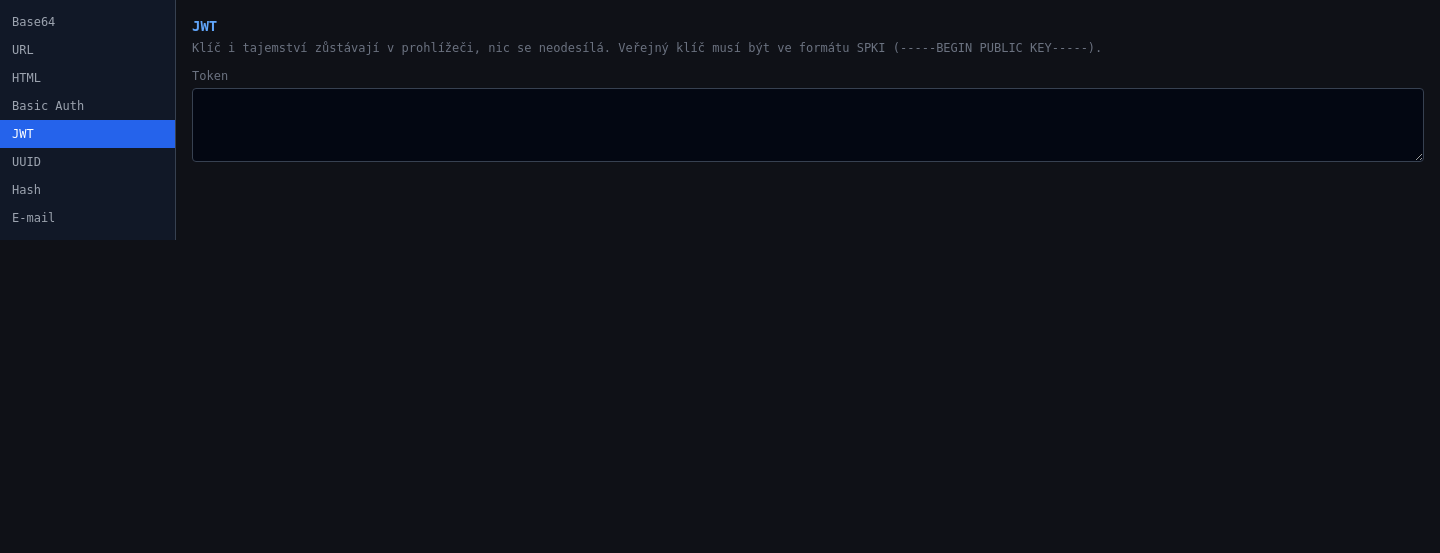
ToolsView › JWT nástroj ověří podpis správným tajemstvím a odmítne špatné
Type "eyJhbGciOiJIUzI1NiIsInR5cCI6IkpXVCJ9.eyJzdWIiOiIxMjM0NTY3ODkwIiwibmFtZSI6IkphbiBOZW1lYyIsImlhdCI6MTUxNjIzOTAyMn0.keAAZPonJ3eodJzQoZTnC42n6QqyLCANJsfjUuqnUJ4" into the text box labelled "Token" at (808, 125), box [192, 88, 1424, 162]
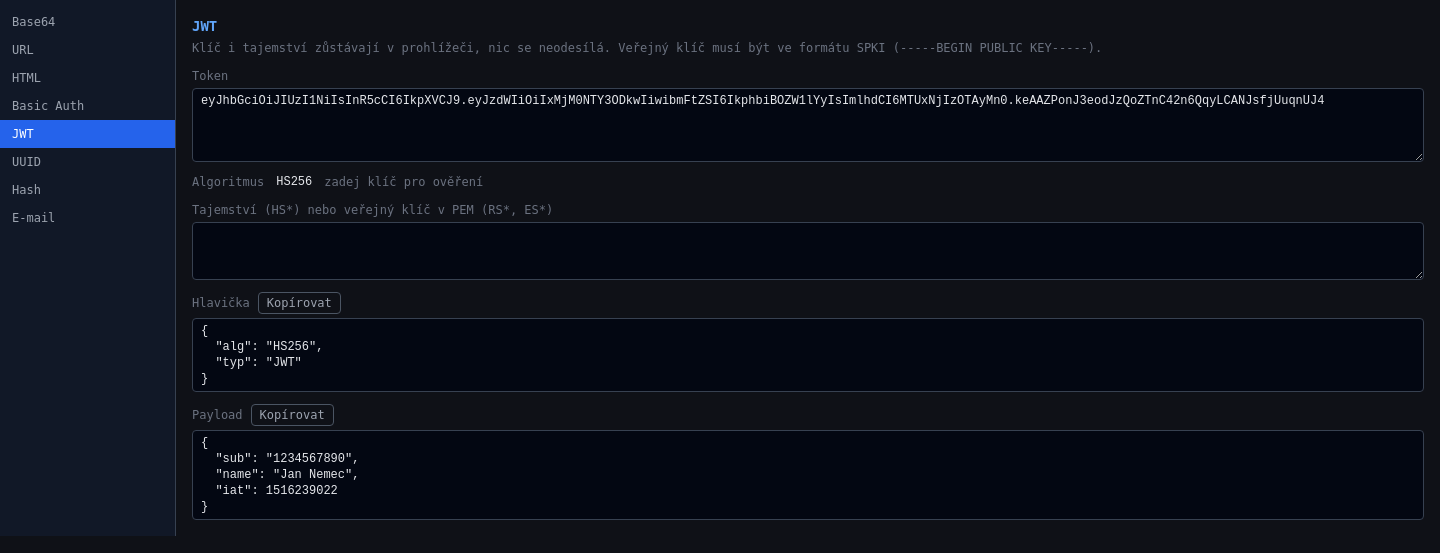
Type "orchestrator-test-secret" into the text box labelled "Tajemství (HS*) nebo veřejný klíč v PEM (RS*, ES*)" at (808, 251), box [192, 222, 1424, 280]
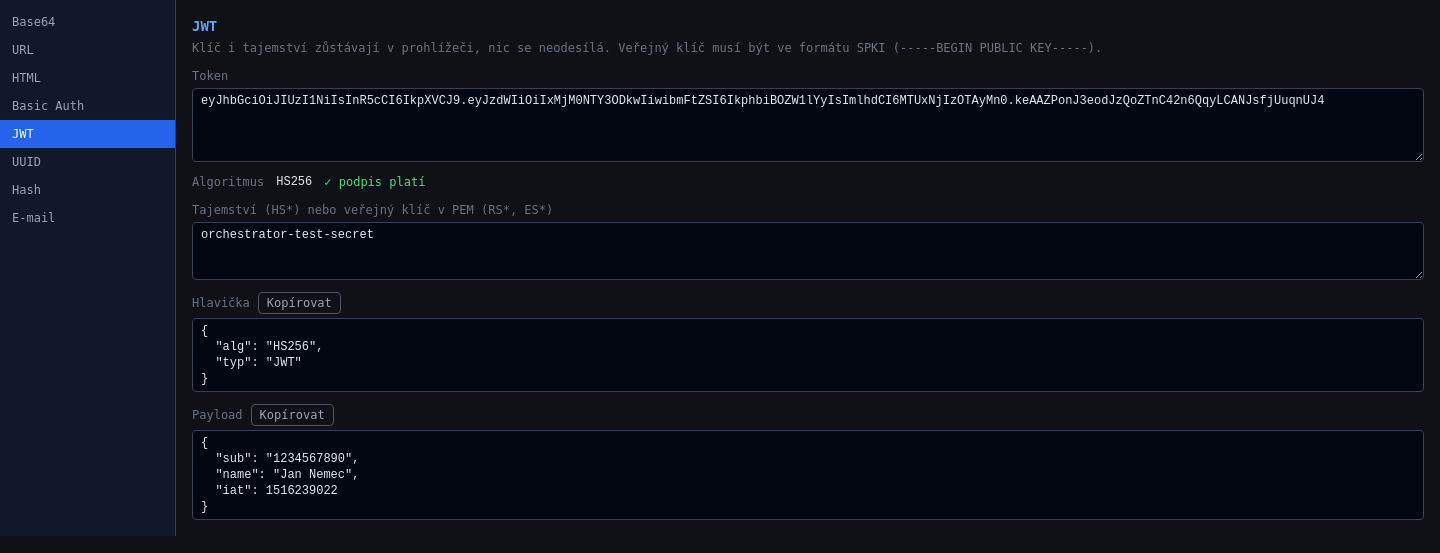
Check: the text "podpis platí" is shown, box [324, 175, 426, 189]
Replace the text in the text box labelled "Tajemství (HS*) nebo veřejný klíč v PEM (RS*, ES*)" with "spatne" at (808, 251), box [192, 222, 1424, 280]
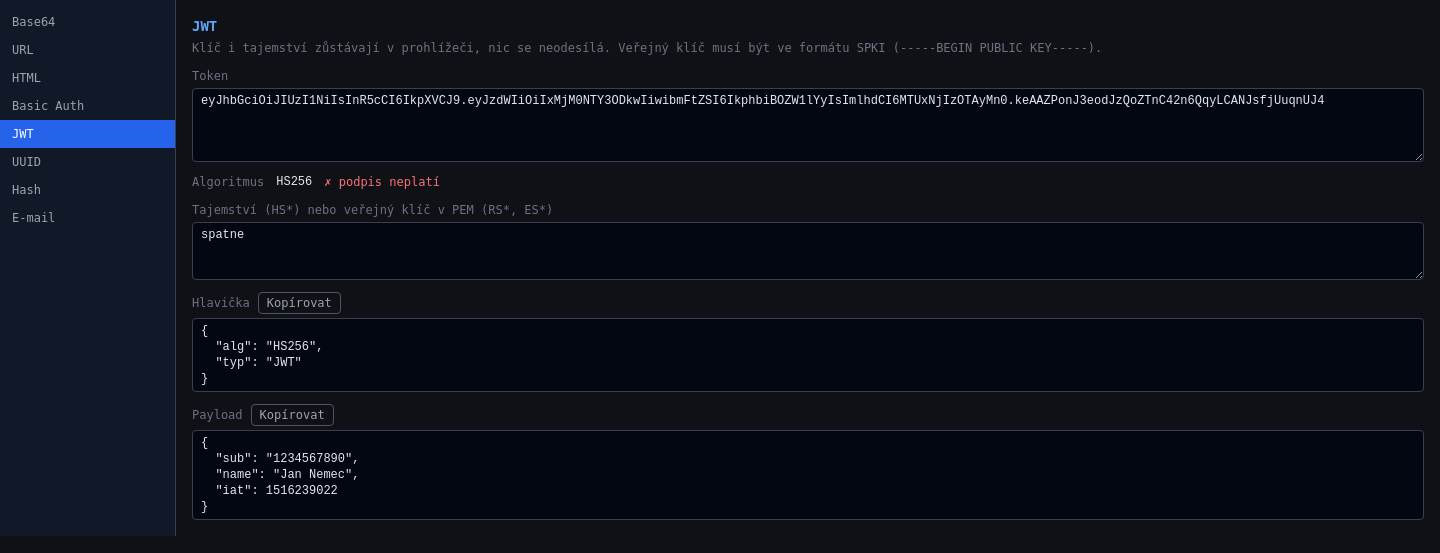
Check: the text "podpis neplatí" is shown, box [324, 175, 440, 189]
